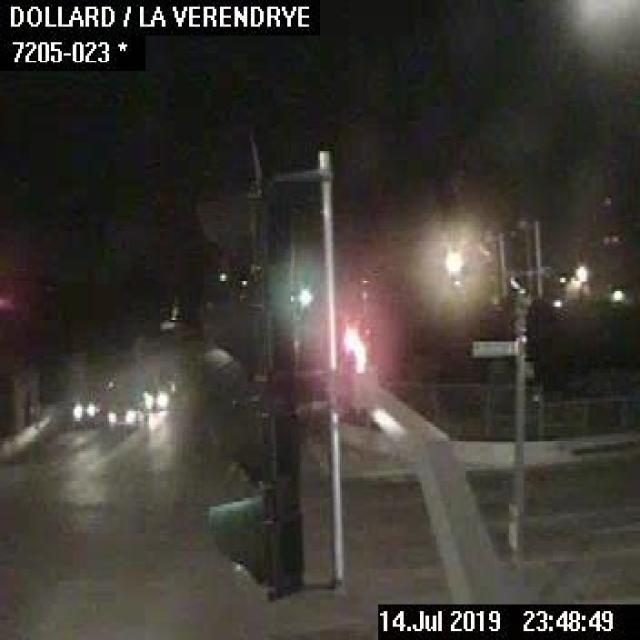vehicle: (104, 396, 142, 426), (139, 383, 170, 413), (73, 395, 100, 422)
